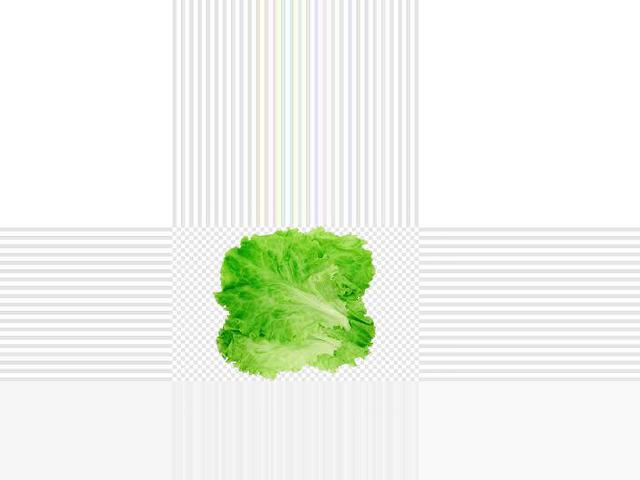lettuce: (211, 234, 369, 359)
